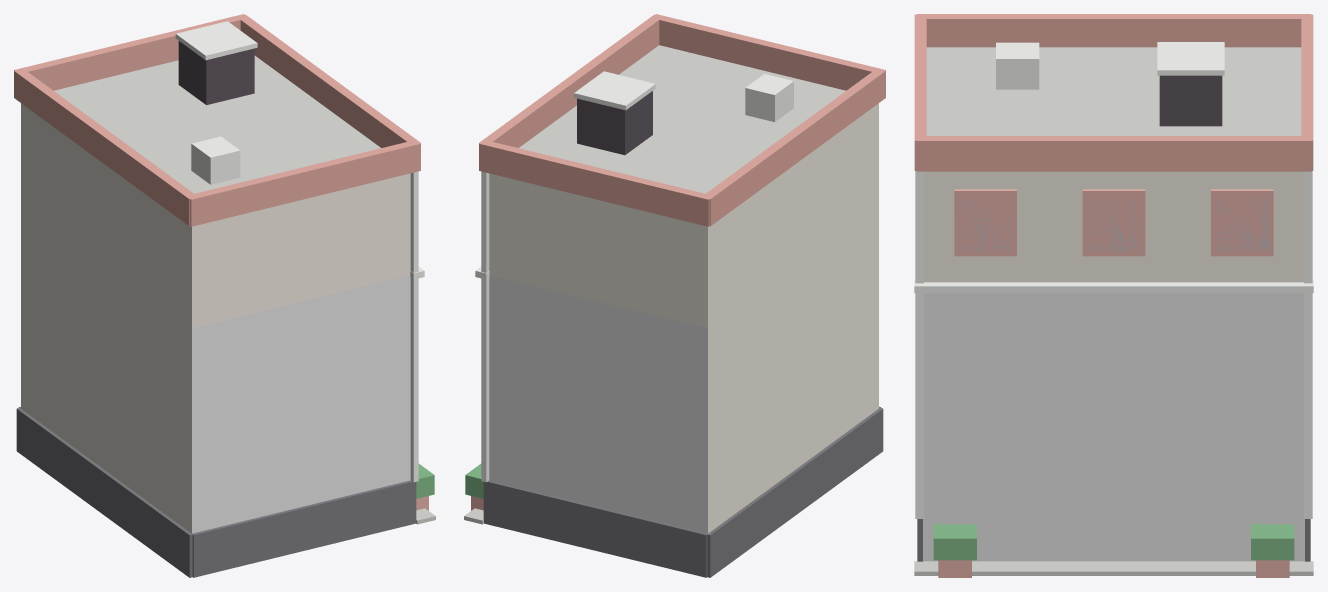
The model's file is FShop_Tall_Flat.fbx.
3 renders of one model, left to right at view 1: azimuth 30°, elevation 25°; view 2: azimuth 150°, elevation 25°; view 3: azimuth 270°, elevation 25°, orthographic. The views are drawn at different scales.
Parts seen in each view (by area): view 1: FShop_Tall_Flat; view 2: FShop_Tall_Flat; view 3: FShop_Tall_Flat.
Boxes of the visible parts, <box> form: FShop_Tall_Flat: <box>14,14,435,577</box>; FShop_Tall_Flat: <box>464,14,885,577</box>; FShop_Tall_Flat: <box>914,14,1313,577</box>.
Size of the model in its own units: 6.82 by 10.71 by 8.3.
